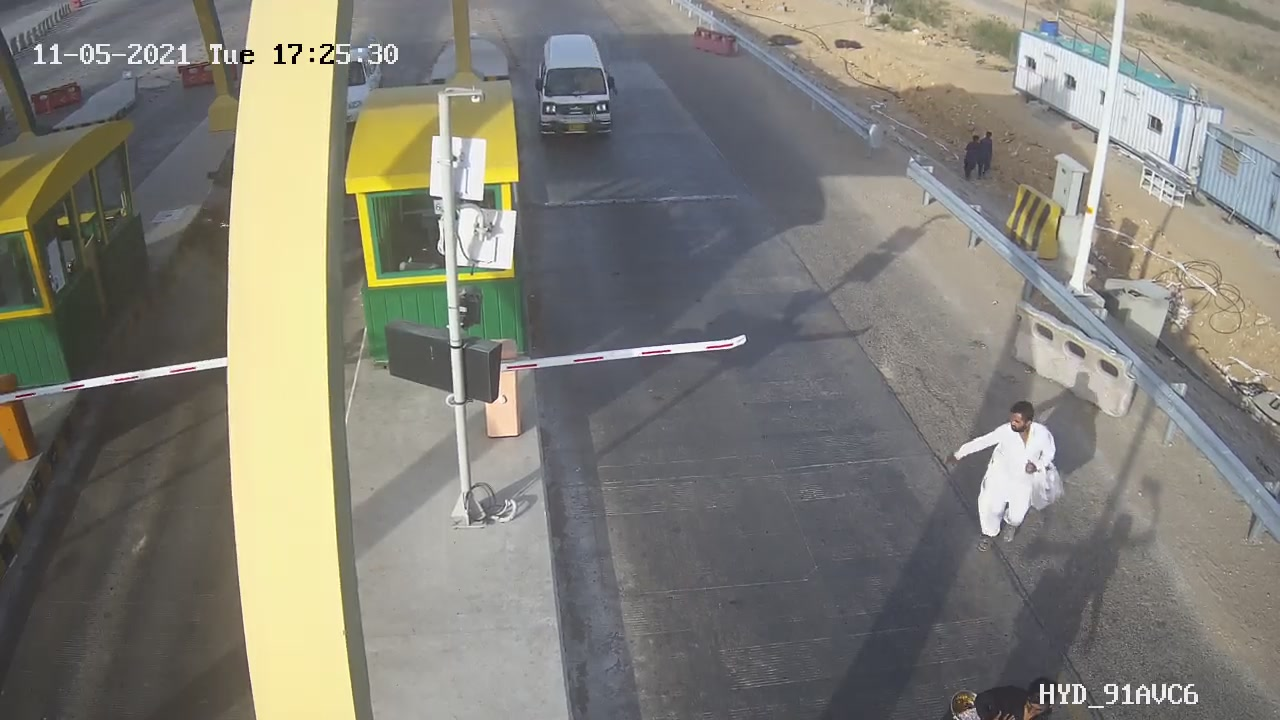F1: (518, 21, 634, 160)
